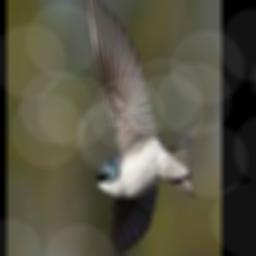Swallow: (85, 0, 195, 256)
